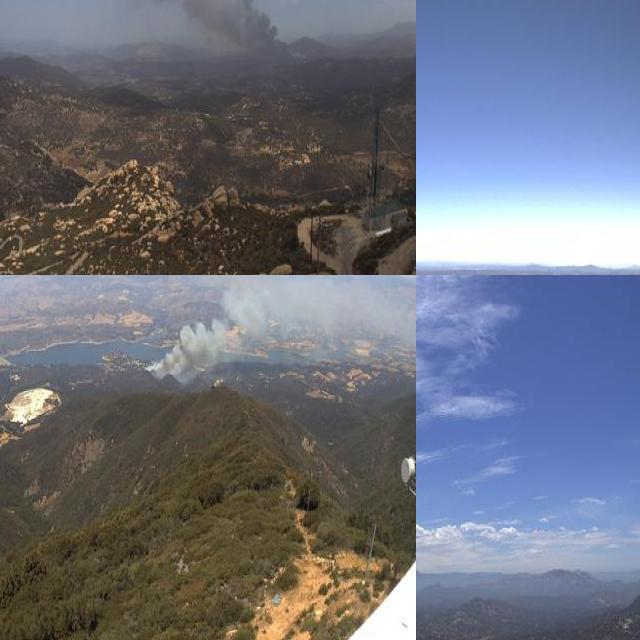smoke: (143, 275, 416, 392), (90, 0, 312, 75)
